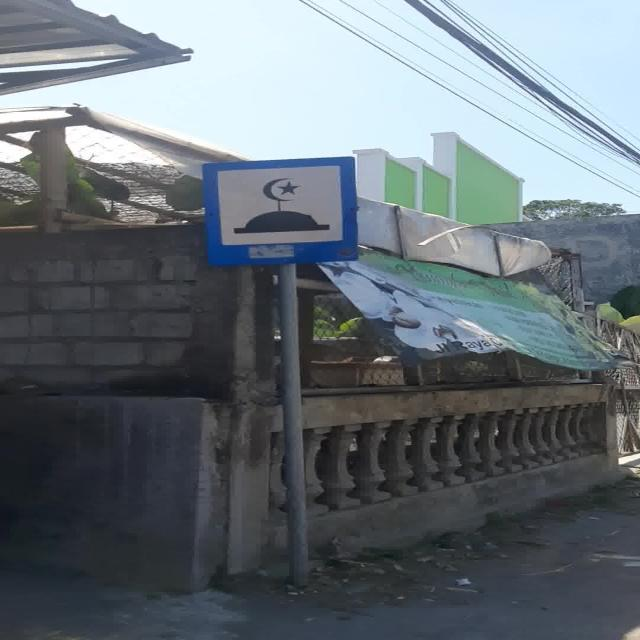Masjid: (201, 156, 359, 267)
